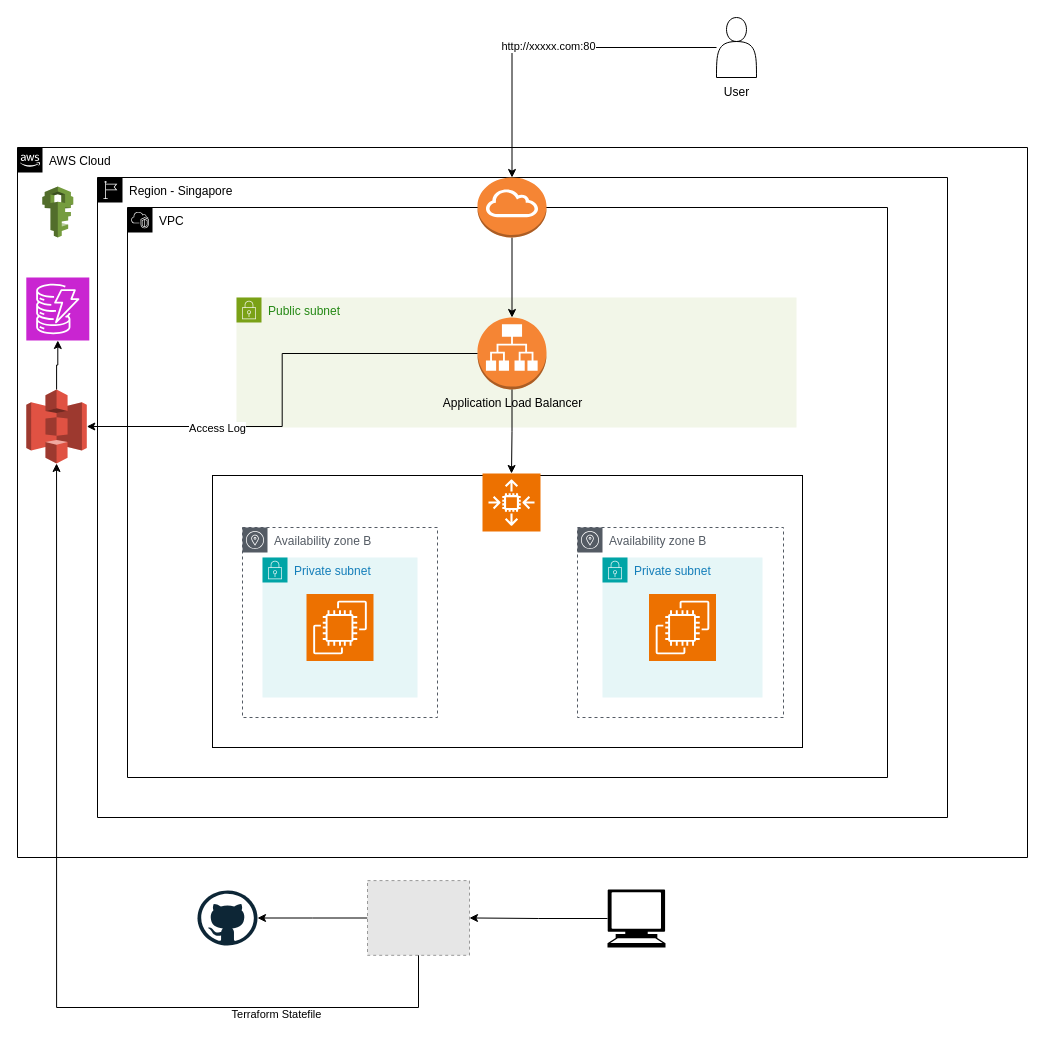
This 1045x1038 diagram has some shape labels left out. Grey dashed boxes stand in for pictures. The shapes that lost their labels are listed below. From the top down, each one's centre as x and y in pixels, then its label:
At (57,212): "IAM".
At (511,207): "Internet Gateway".
At (57,308): "DynamoDB".
At (56,426): "S3".
At (511,502): "Auto Scaling".
